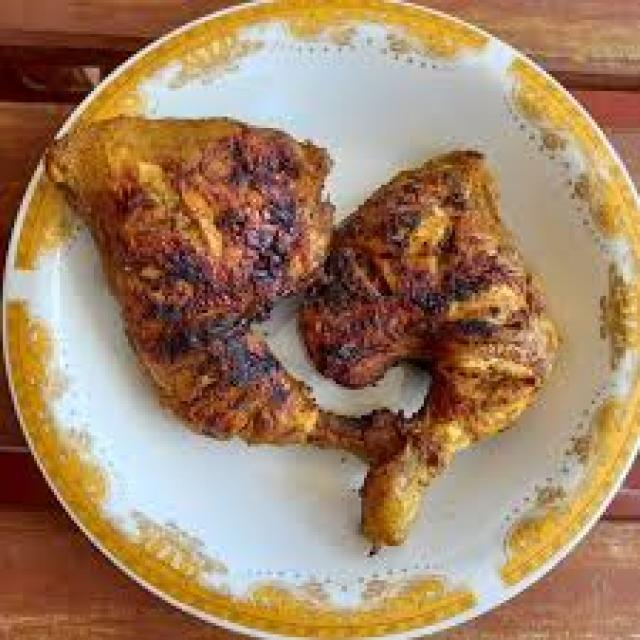Ayam Bakar: (54, 98, 581, 556)
